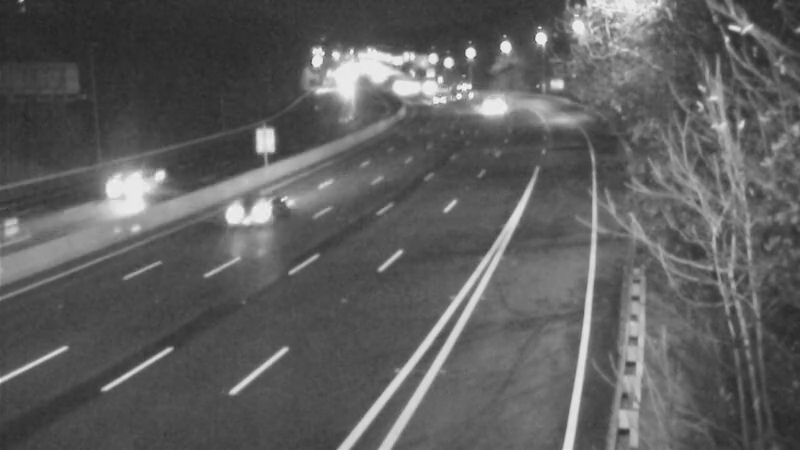vehicle: (213, 166, 293, 246), (75, 146, 155, 226), (1, 186, 66, 266), (403, 62, 453, 112), (442, 64, 492, 114), (410, 77, 460, 127), (460, 78, 510, 128)
